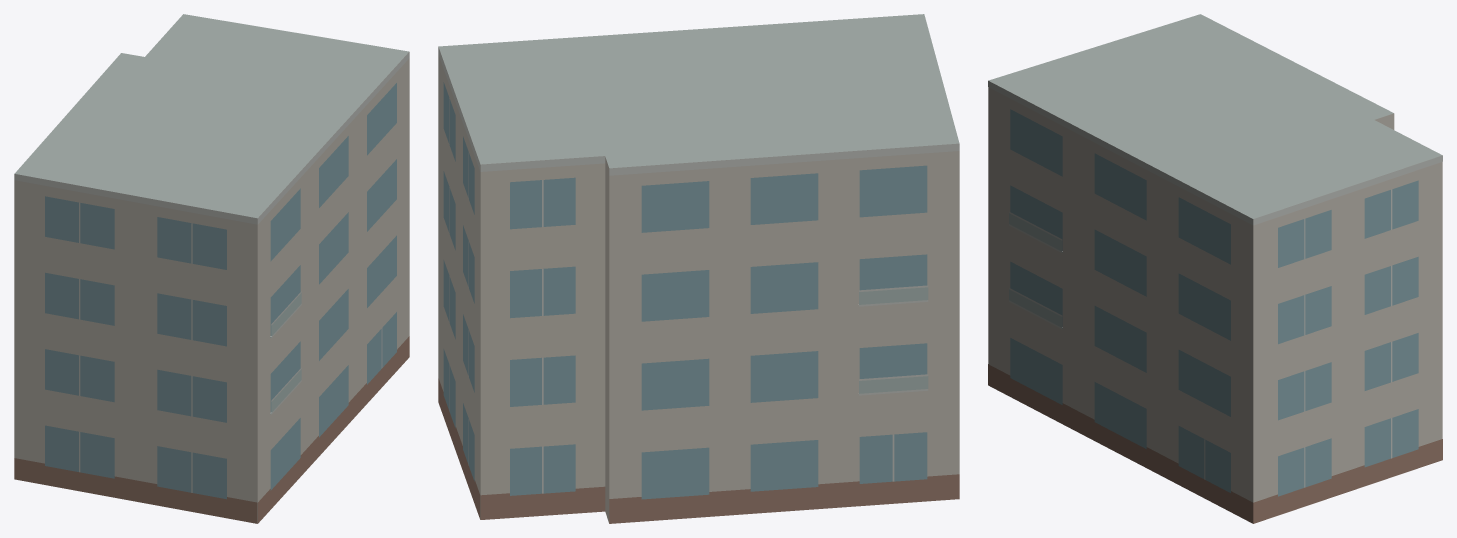
The model's file is survey-upis-32805957.glb.
3 renders of one model, left to right at view 1: azimuth 30°, elevation 25°; view 2: azimuth 150°, elevation 25°; view 3: azimuth 270°, elevation 25°, orthographic. The views are drawn at different scales.
Visible parts, largest first — view 1: survey-upis-32805957.tmp; view 2: survey-upis-32805957.tmp; view 3: survey-upis-32805957.tmp.
Part boxes in pixels (x1,y1,x2,y2): survey-upis-32805957.tmp: [14, 14, 409, 523]; survey-upis-32805957.tmp: [438, 14, 959, 523]; survey-upis-32805957.tmp: [988, 14, 1442, 523].
Size of the model in its own units: 16.83 by 11.65 by 15.76.
